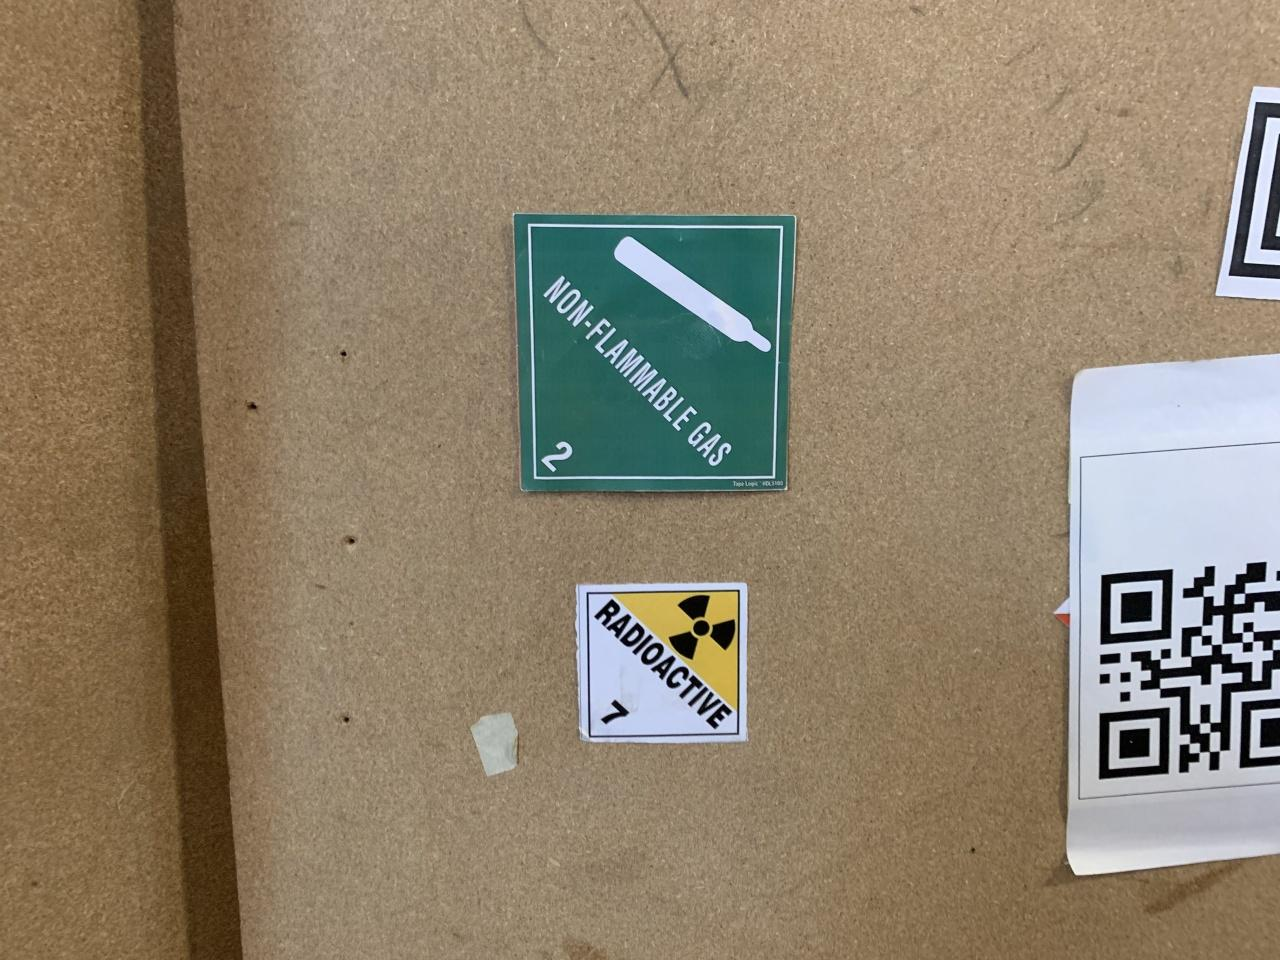non-flammable-gas: (507, 211, 788, 496)
radioactive: (577, 583, 749, 748)
